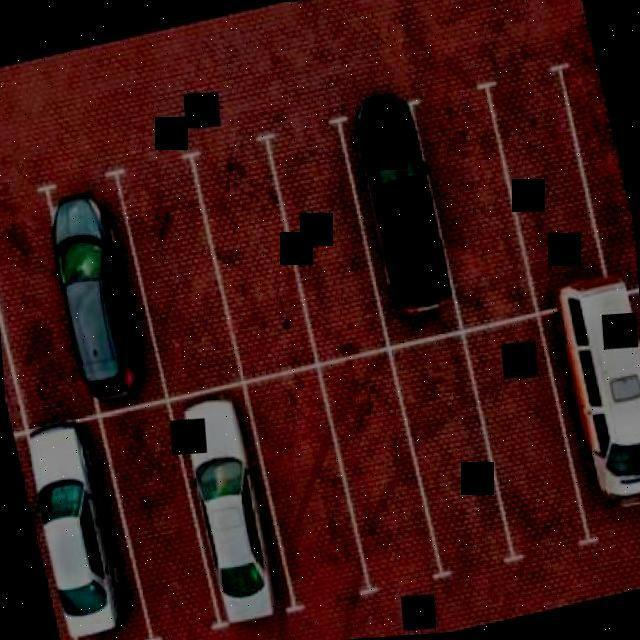empty: (463, 313, 586, 553), (318, 351, 440, 584), (248, 368, 367, 601), (393, 331, 508, 563), (122, 157, 238, 386), (266, 119, 384, 344), (101, 407, 214, 640), (196, 134, 307, 371), (416, 83, 529, 315), (488, 70, 602, 294), (0, 194, 82, 414), (562, 49, 637, 272)
occupied: (162, 373, 301, 640), (336, 70, 468, 333), (10, 406, 143, 640), (29, 163, 155, 404), (544, 274, 640, 518)
